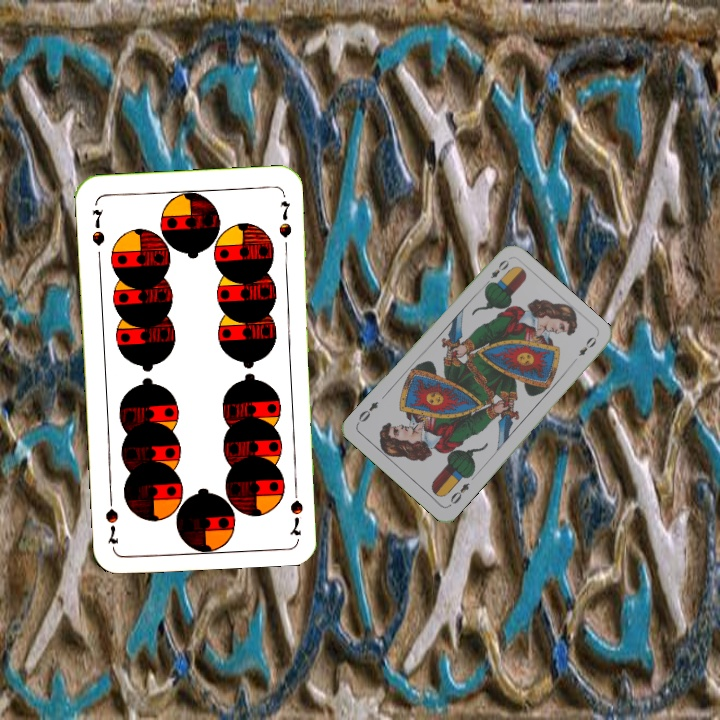EO: (480, 255, 512, 289), (445, 478, 472, 509)
S7: (286, 480, 306, 539), (87, 205, 108, 249)
